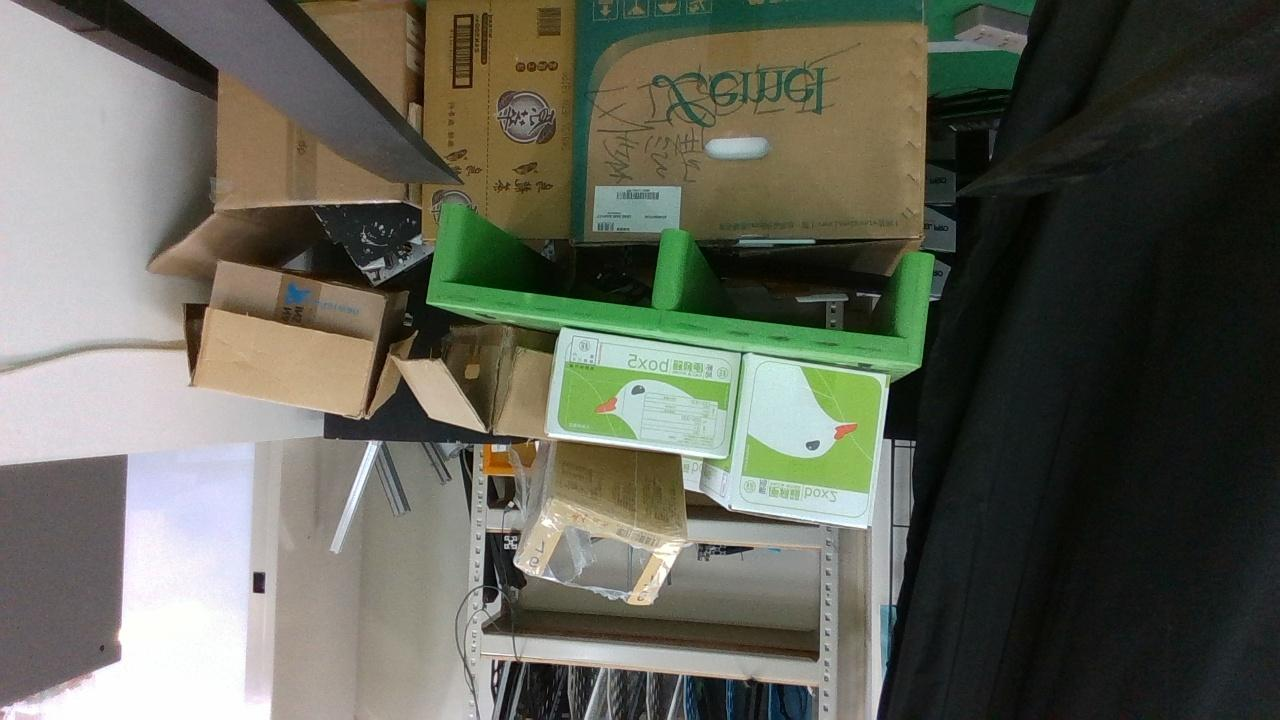Pallet: (425, 200, 935, 367)
